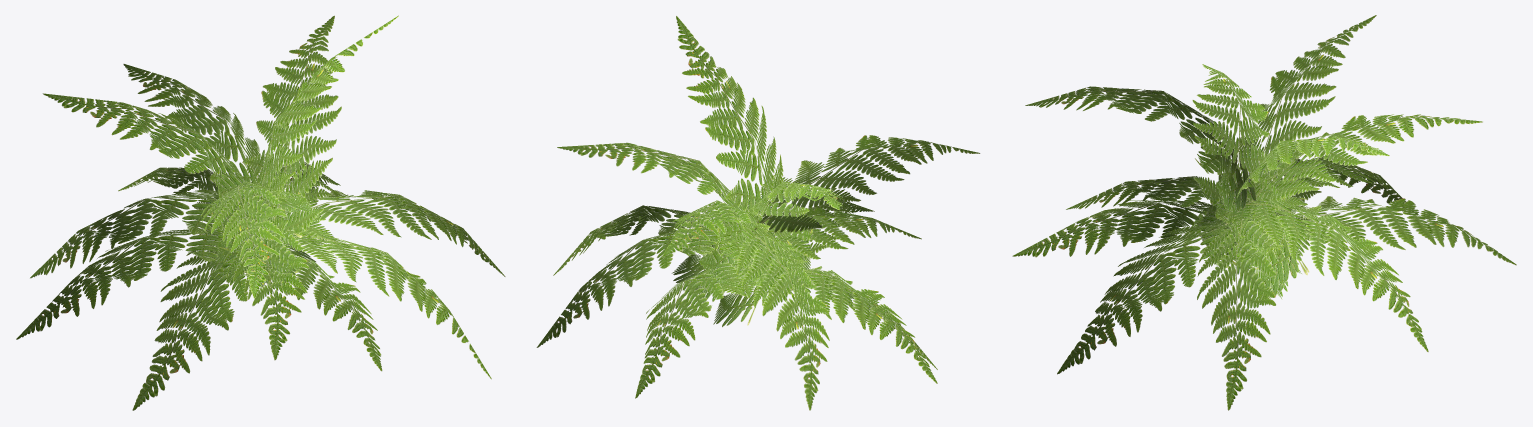
Rendered from Fern1.fbx.
3 renders of one model, left to right at view 1: azimuth 30°, elevation 25°; view 2: azimuth 150°, elevation 25°; view 3: azimuth 270°, elevation 25°, orthographic. The views are drawn at different scales.
Parts seen in each view (by area): view 1: fern1; view 2: fern1; view 3: fern1.
Part boxes in pixels (left/top/right/bottom): fern1: left=16, top=15, right=505, bottom=410; fern1: left=536, top=16, right=980, bottom=410; fern1: left=1012, top=15, right=1516, bottom=410.
Bounding box in the file's own units: 160 × 109 × 161.
Materials: 1 (1 with a texture image).
